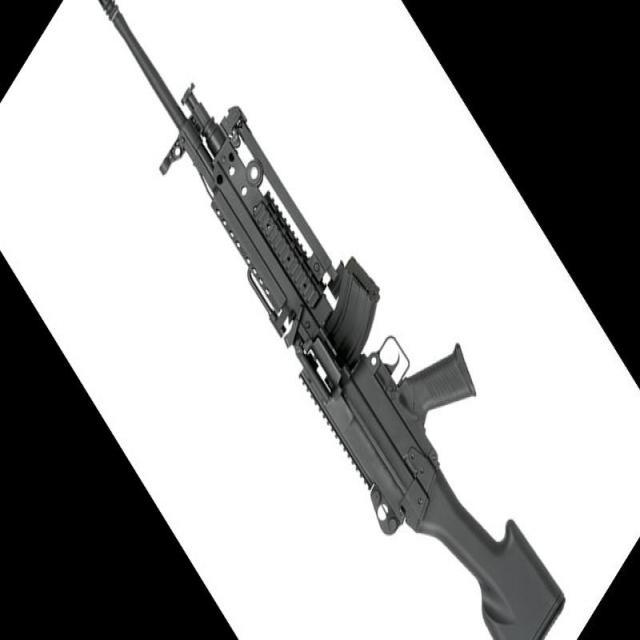weapon: (98, 0, 568, 640)
